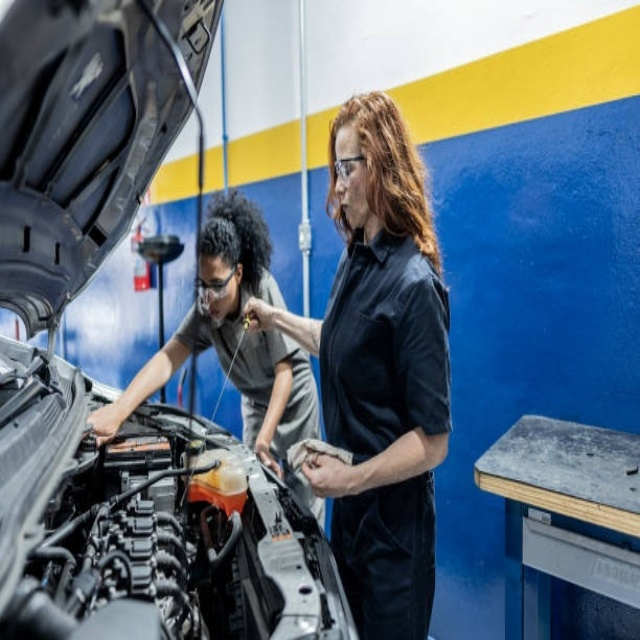Gafas: (194, 265, 237, 302), (334, 155, 366, 179)
Sin_guantes: (294, 448, 345, 498), (83, 411, 124, 447), (243, 296, 276, 336)
Sin_mascara: (338, 194, 358, 225)
